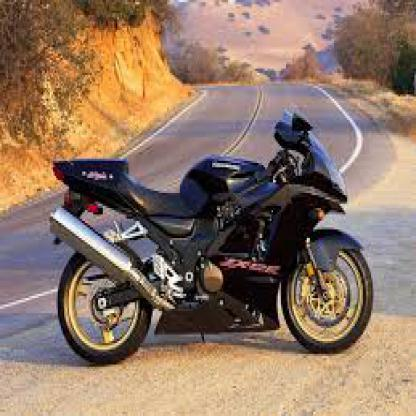Motorcycle: (39, 102, 381, 366)
